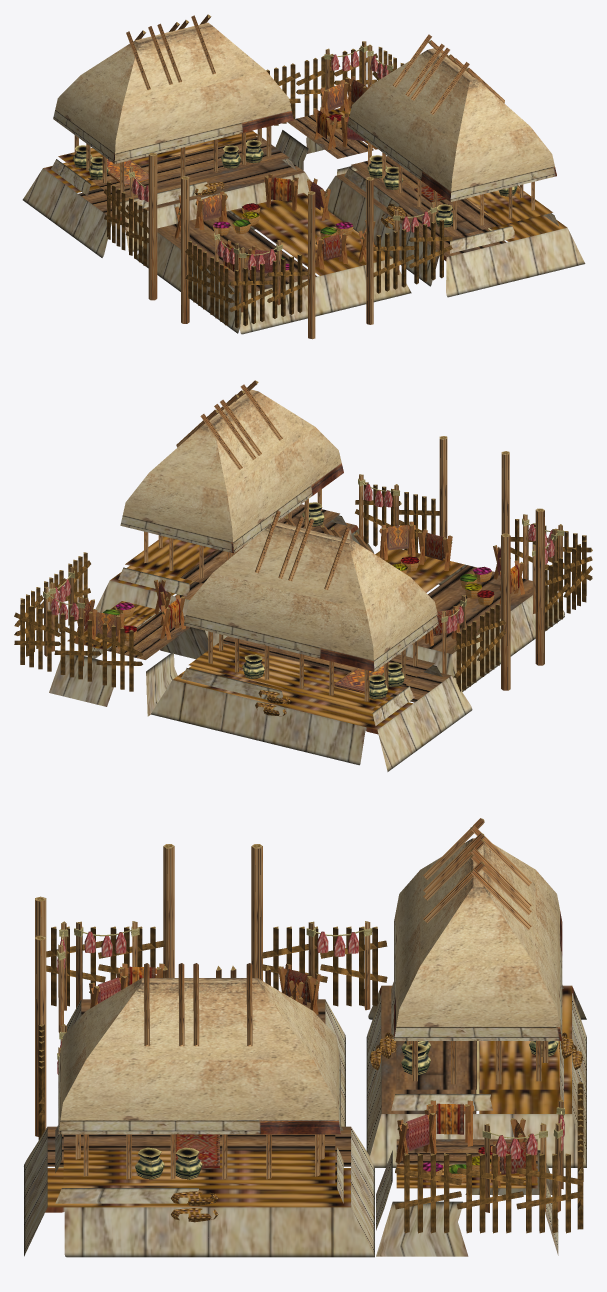
Rendered from market.dae.
The picture shows the model from 3 angles, top to bottom: view 1: azimuth 30°, elevation 25°; view 2: azimuth 150°, elevation 25°; view 3: azimuth 270°, elevation 25°; orthographic projection. The views are drawn at different scales.
Visible parts, largest first — view 1: market; view 2: market; view 3: market.
Part boxes in pixels (left/top/right/bottom): market: left=22, top=14, right=585, bottom=339; market: left=14, top=380, right=592, bottom=771; market: left=24, top=818, right=586, bottom=1257.
Bounding box in the file's own units: 34.96 × 34.99 × 17.67.
